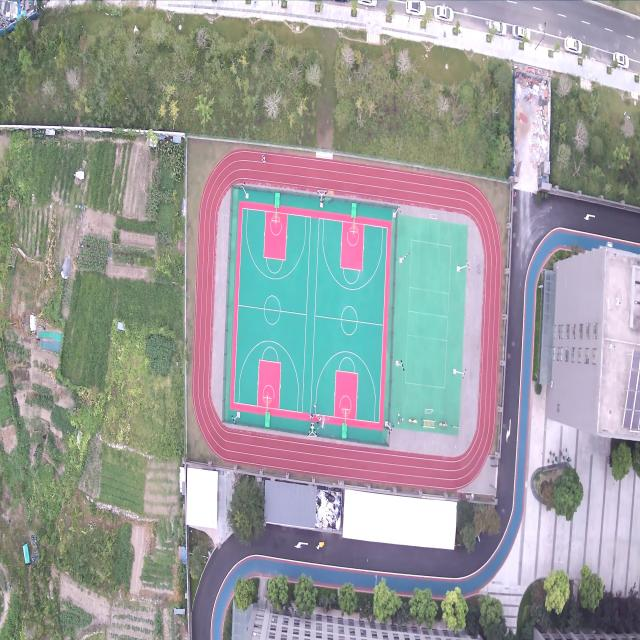drone: (317, 416, 329, 430)
